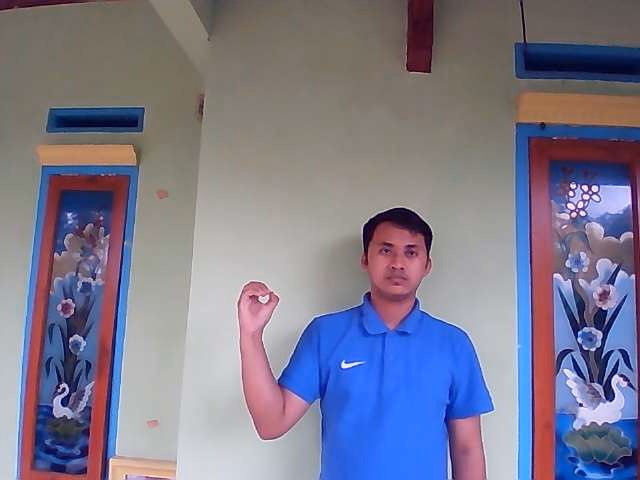O: (235, 280, 280, 333)
